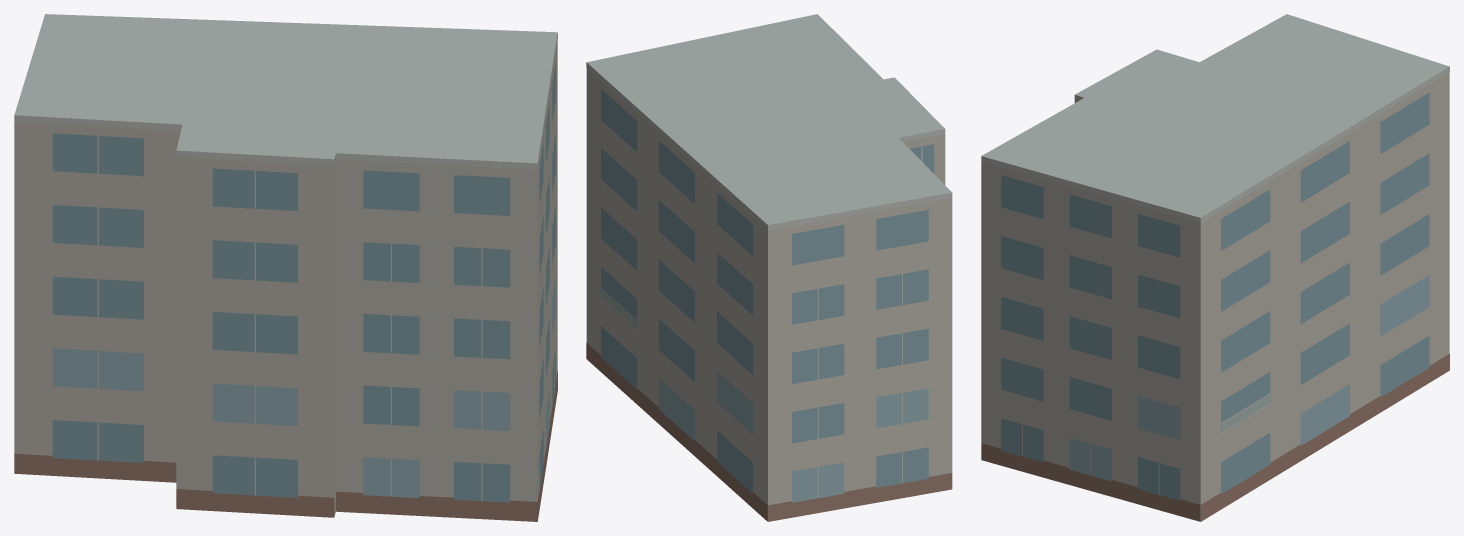
File: survey-upis-32945267.glb
3 renders of one model, left to right at view 1: azimuth 30°, elevation 25°; view 2: azimuth 150°, elevation 25°; view 3: azimuth 270°, elevation 25°, orthographic. The views are drawn at different scales.
Parts seen in each view (by area): view 1: survey-upis-32945267.tmp; view 2: survey-upis-32945267.tmp; view 3: survey-upis-32945267.tmp.
Part boxes in pixels (box(x1,y1,x2,y2)): survey-upis-32945267.tmp: box(14, 14, 557, 521); survey-upis-32945267.tmp: box(586, 14, 952, 521); survey-upis-32945267.tmp: box(981, 14, 1449, 521).
Bounding box in the file's own units: 19.43 × 13.5 × 18.86.
